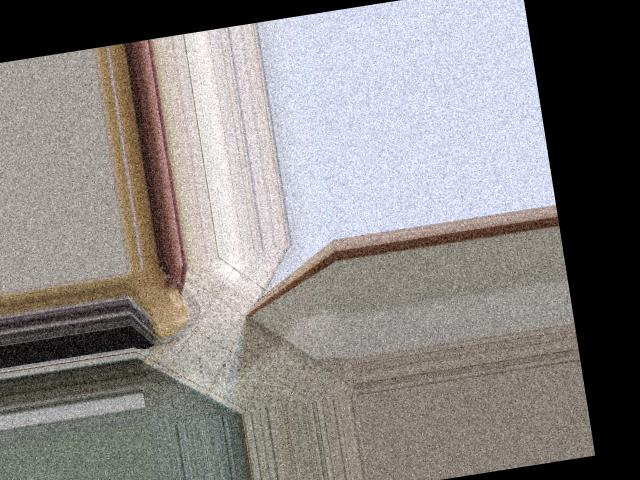cheese: (122, 260, 203, 347)
